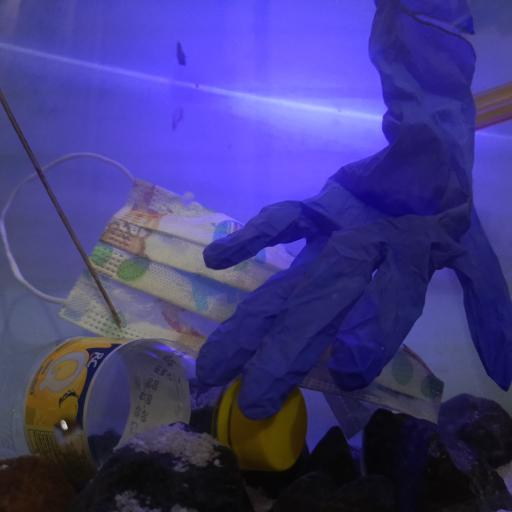bottle_cap: (230, 381, 309, 473)
glove: (196, 0, 512, 419)
mask: (1, 152, 448, 439)
plastic_bottle: (0, 335, 308, 474)
plastic_straw: (471, 84, 512, 128)
